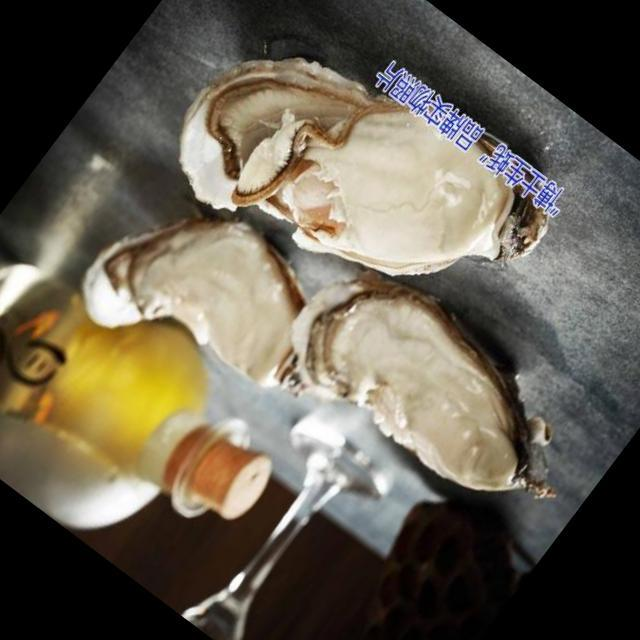Oyster-Open: (141, 0, 576, 380), (267, 238, 604, 544), (60, 161, 358, 445)
